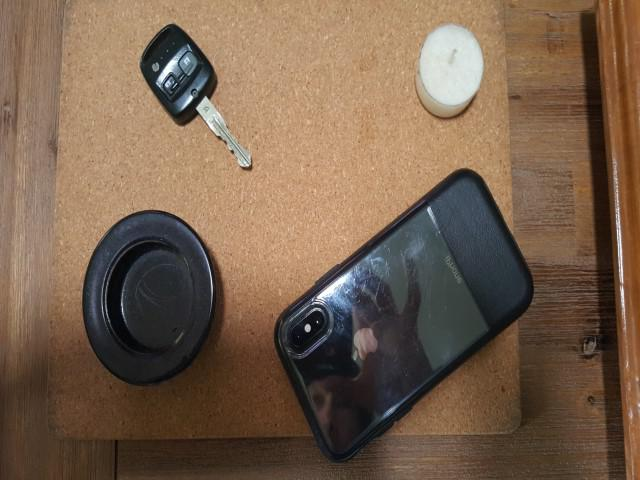key: (140, 23, 252, 252)
